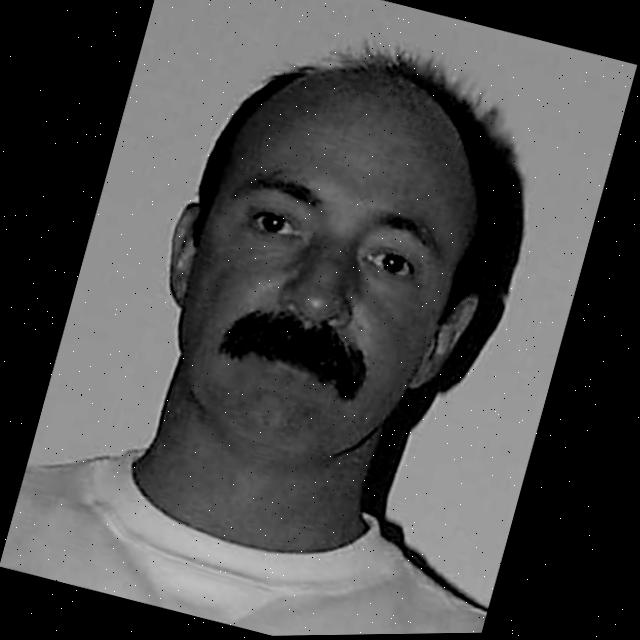face: (107, 29, 534, 505)
